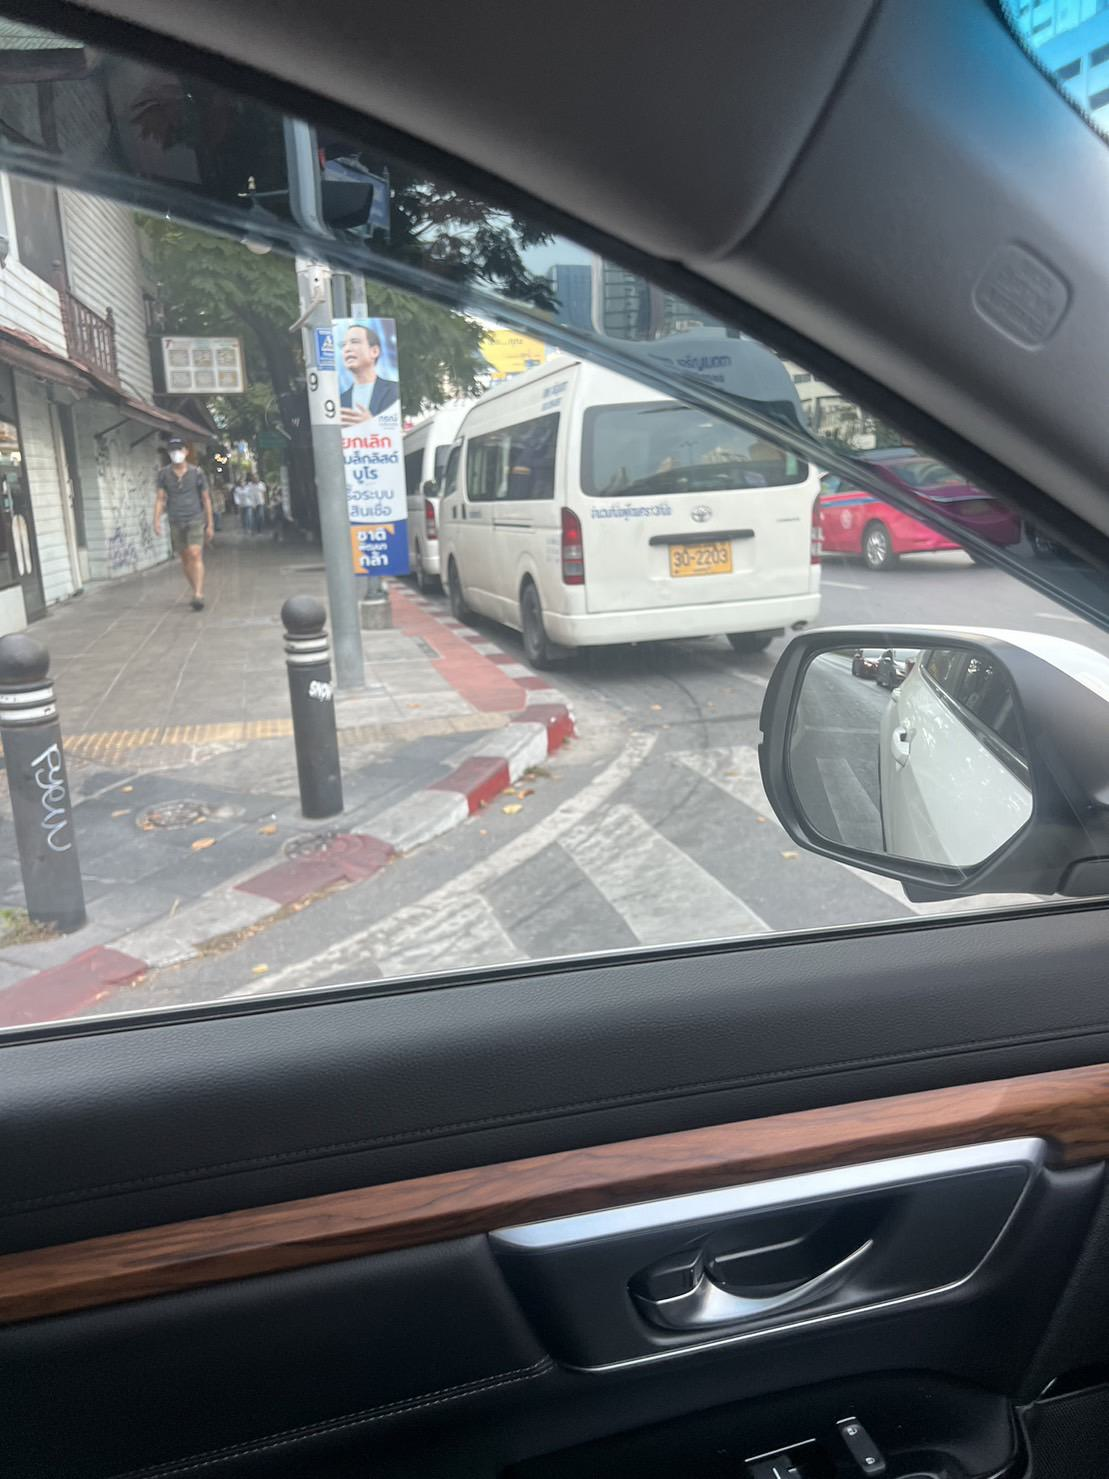Banner: (319, 307, 419, 583)
